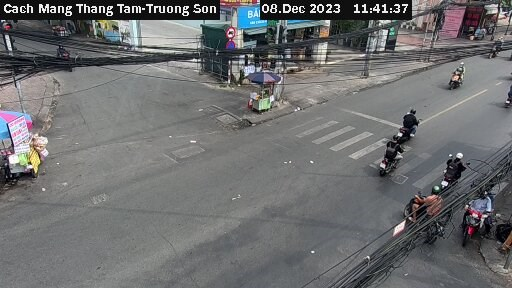motorbike: (394, 182, 454, 238), (459, 185, 501, 238), (370, 133, 407, 179), (388, 104, 432, 141), (440, 64, 480, 99), (437, 150, 471, 187), (484, 34, 505, 60)
